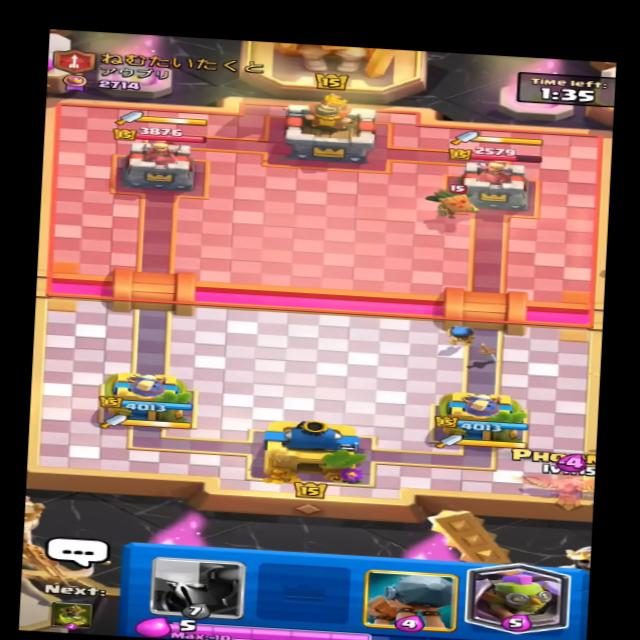dart-goblin: (422, 184, 479, 222)
